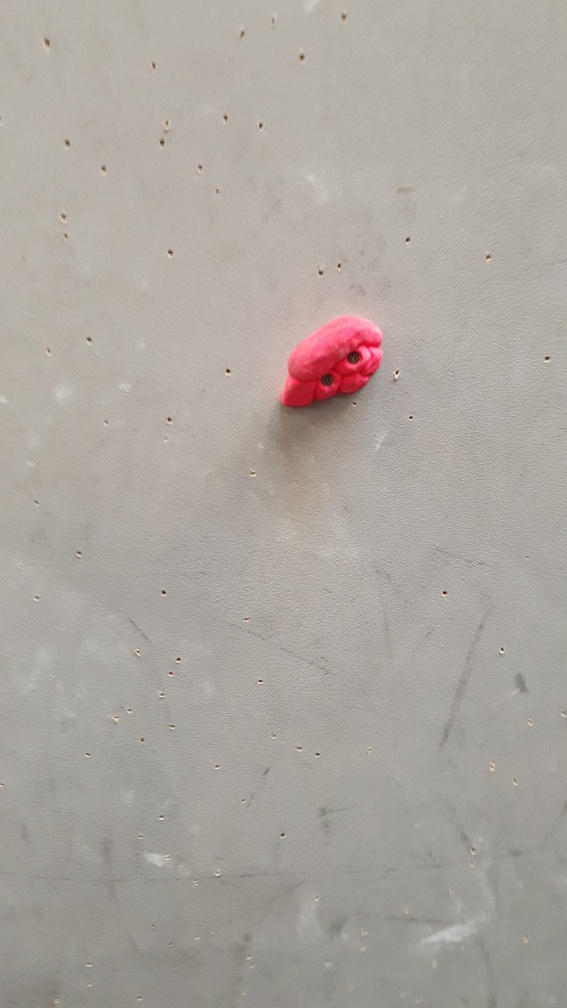Jug: (277, 310, 385, 412)
